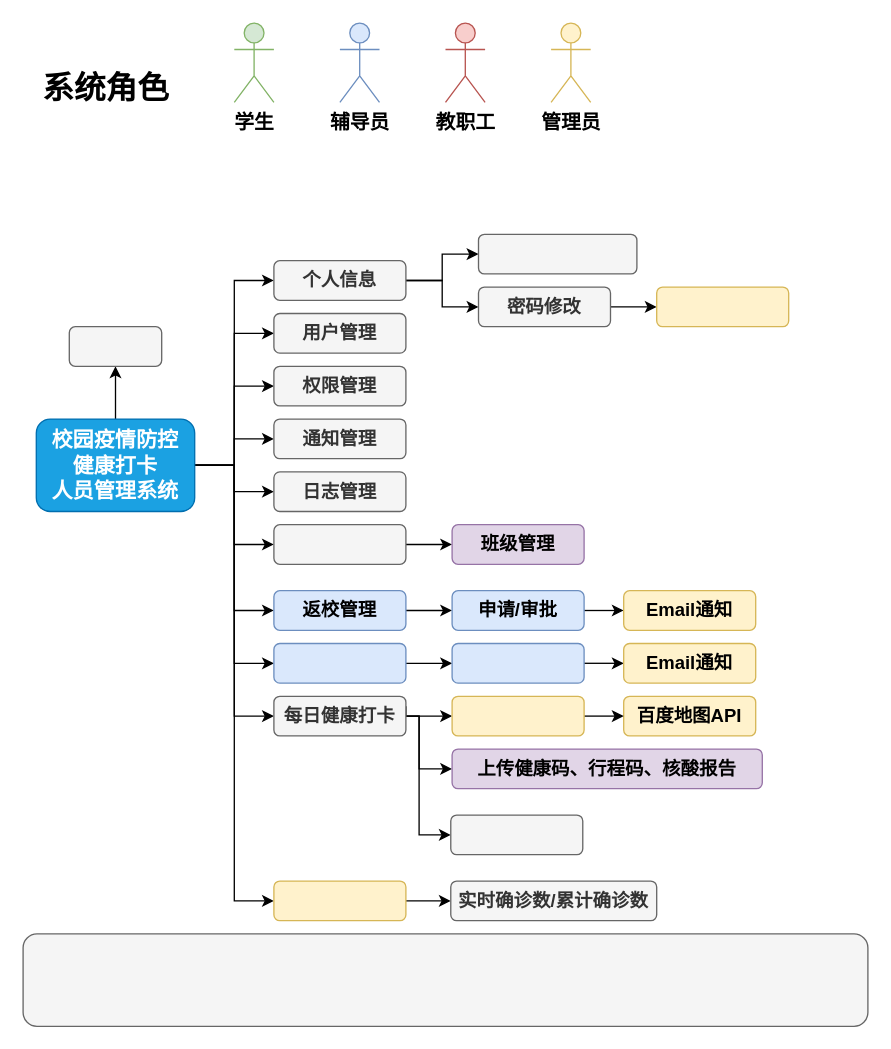
This 891x1049 diagram has some shape labels left out. The shapes that lost their labels are listed below. From the top down, each one's centre as x and y in pixels, then its label:
pixel 557 253: 头像等信息修改
pixel 722 306: 短信验证码
pixel 115 345: 登录
pixel 339 543: 学院管理
pixel 339 662: 离校管理
pixel 517 662: 请假/审批
pixel 517 715: 自动获取地址
pixel 516 834: 查询/统计
pixel 339 900: 疫情地图
pixel 445 979: * 黄色功能为系统亮点功能 * 紫色功能为2.0版新增功能
